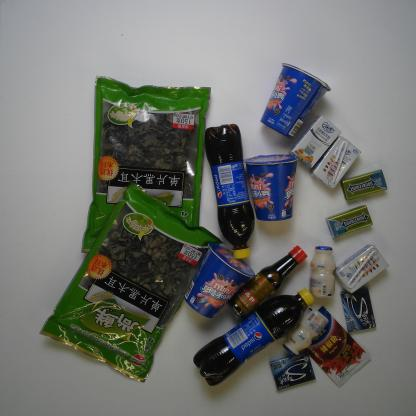Dessert: (263, 59, 328, 139), (242, 154, 312, 226), (196, 237, 244, 318)
Dried Food: (57, 186, 191, 379), (83, 77, 209, 252)
Drink: (204, 288, 310, 380), (199, 125, 263, 256)
Gum: (272, 356, 328, 394), (324, 204, 378, 242), (341, 292, 383, 335), (342, 172, 395, 201)
Milk: (330, 245, 397, 296), (314, 135, 358, 188), (283, 311, 334, 351), (297, 113, 334, 168), (314, 243, 338, 302)
Seasoner: (222, 244, 313, 310), (302, 312, 362, 392)
